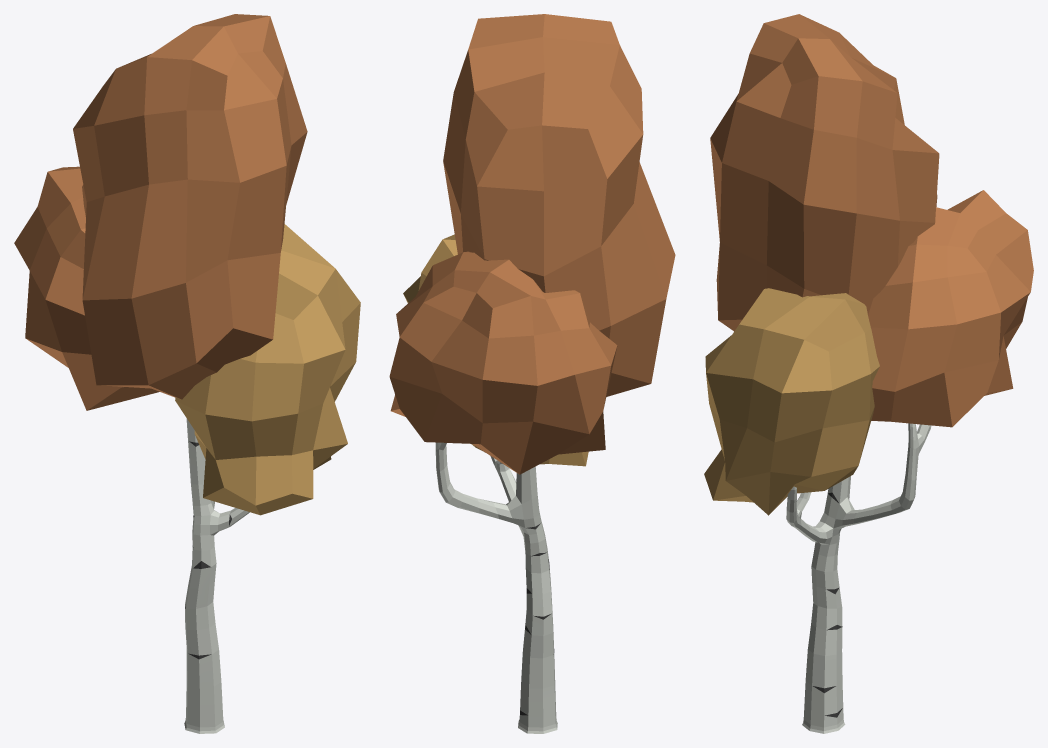
File: birchtree_autumn_3.glb
3 views of the same model, side by side, from view 1: azimuth 30°, elevation 25°; view 2: azimuth 150°, elevation 25°; view 3: azimuth 270°, elevation 25° (orthographic). The views are drawn at different scales.
Parts seen in each view (by area): view 1: BirchTree_Autumn_3; view 2: BirchTree_Autumn_3; view 3: BirchTree_Autumn_3.
Boxes of the visible parts, x1,y1,x2,y2 form: BirchTree_Autumn_3: (14,14,360,733); BirchTree_Autumn_3: (389,14,675,733); BirchTree_Autumn_3: (704,14,1033,733).
Bounding box in the file's own units: 1.57 × 4.09 × 1.77.
